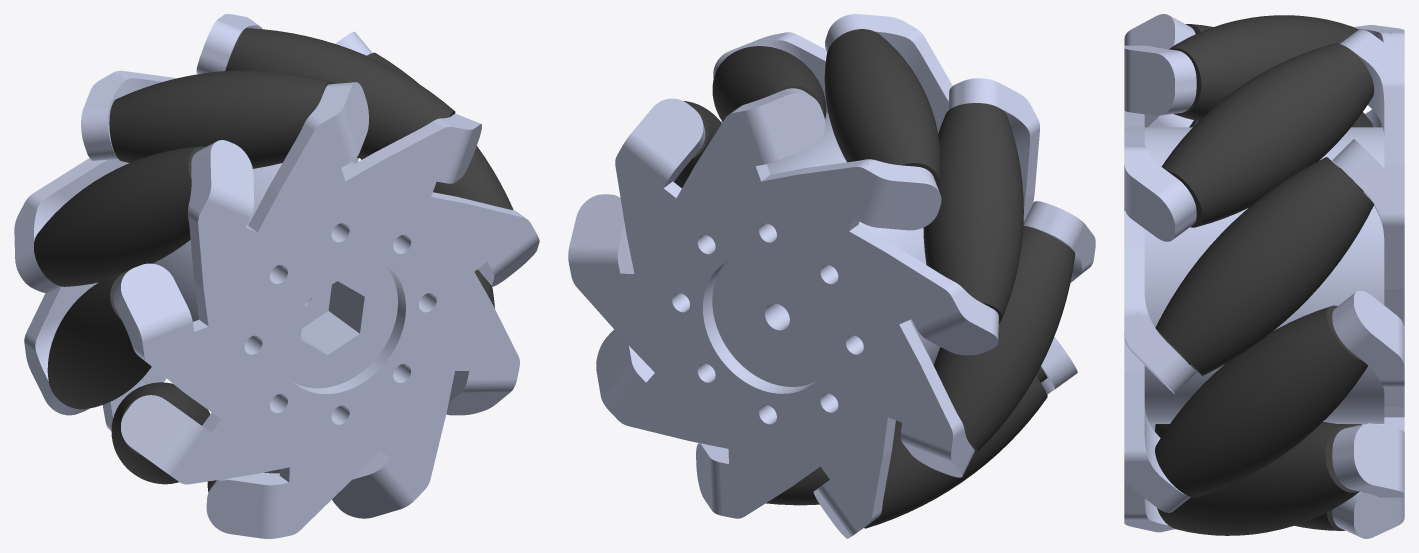
Rendered from Part2_1_Mirror.dae.
3 views of the same model, side by side, from view 1: azimuth 30°, elevation 25°; view 2: azimuth 150°, elevation 25°; view 3: azimuth 270°, elevation 25° (orthographic). The views are drawn at different scales.
Parts seen in each view (by area): view 1: Part2_1_Mirror; view 2: Part2_1_Mirror; view 3: Part2_1_Mirror.
Part boxes in pixels (x1,y1,x2,y2): Part2_1_Mirror: (14, 14, 539, 538); Part2_1_Mirror: (568, 14, 1095, 538); Part2_1_Mirror: (1124, 14, 1404, 538).
Bounding box in the file's own units: 0.0778 × 0.0415 × 0.0777.
